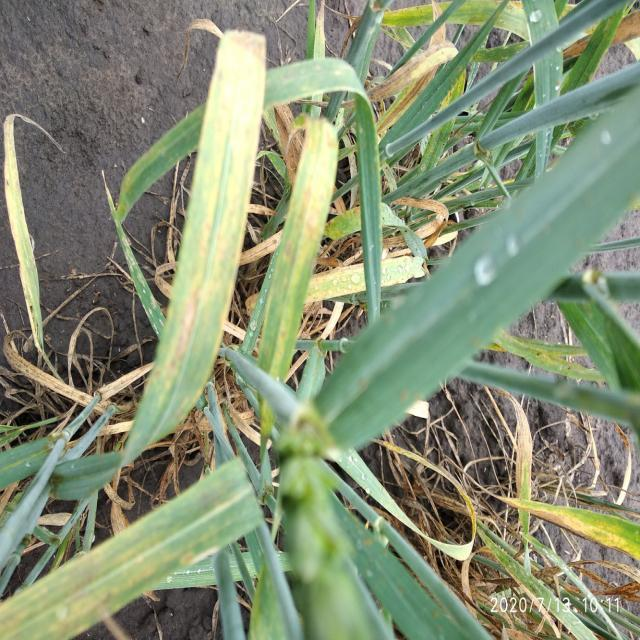wheat-septoria: (122, 30, 266, 472), (0, 457, 263, 640), (240, 117, 340, 383)
